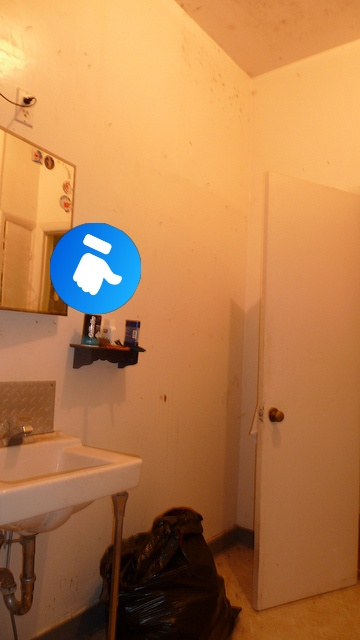like: (50, 223, 141, 314)
